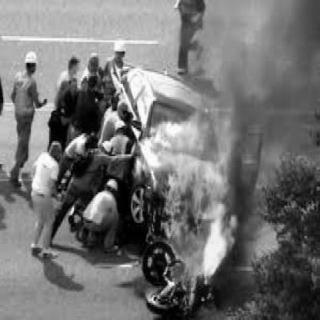Fire: (156, 159, 258, 297)
Smoke: (199, 6, 311, 182)
